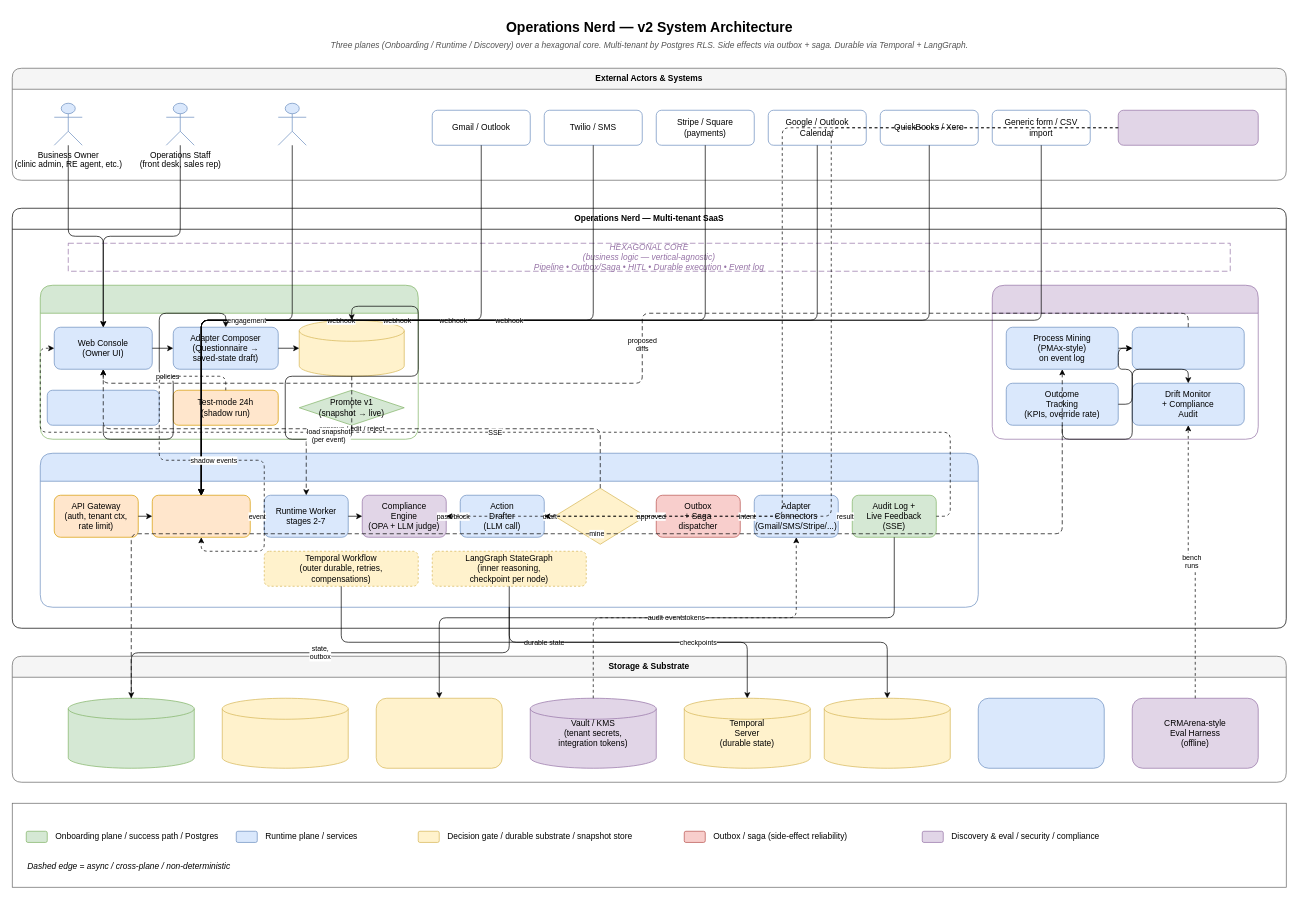
This 1299x900 diagram has some shape labels left out. The shapes that lost their labels are listed below. From the top down, each one's box as (x1, y1, x2, y2) in pixels, then its label:
(278, 103, 306, 145): Customers / Patients / Leads / Clients
(1118, 110, 1258, 145): LLM Providers (OpenAI / Anthropic / etc.)
(40, 285, 418, 439): PLANE 1 — Onboarding (one-time per business)
(299, 320, 404, 376): Snapshot Store (versioned, immutable, hash-checked)
(992, 285, 1258, 439): PLANE 3 — Discovery & Eval (continuous, async)
(1132, 327, 1244, 369): Adapter Diff Proposer
(47, 390, 159, 425): Compliance Profile Picker
(152, 495, 250, 537): Event Ingest (webhooks, polling, CSV) + idempotency
(40, 453, 978, 607): PLANE 2 — Event Runtime (per inbound event)
(554, 488, 646, 544): HITL Gate (approval queue) 3-signal conf.
(68, 698, 194, 768): Postgres (state, event log, outbox, audit, RLS)
(222, 698, 348, 768): Object Store (snapshots, DB snapshots, immut.)
(376, 698, 502, 768): Event Bus (Kafka/equiv.) stage events, SSE
(824, 698, 950, 768): LangGraph Checkpointer (Postgres)
(978, 698, 1104, 768): Observability (OTel → backend)
(12, 803, 1286, 887): Legend
